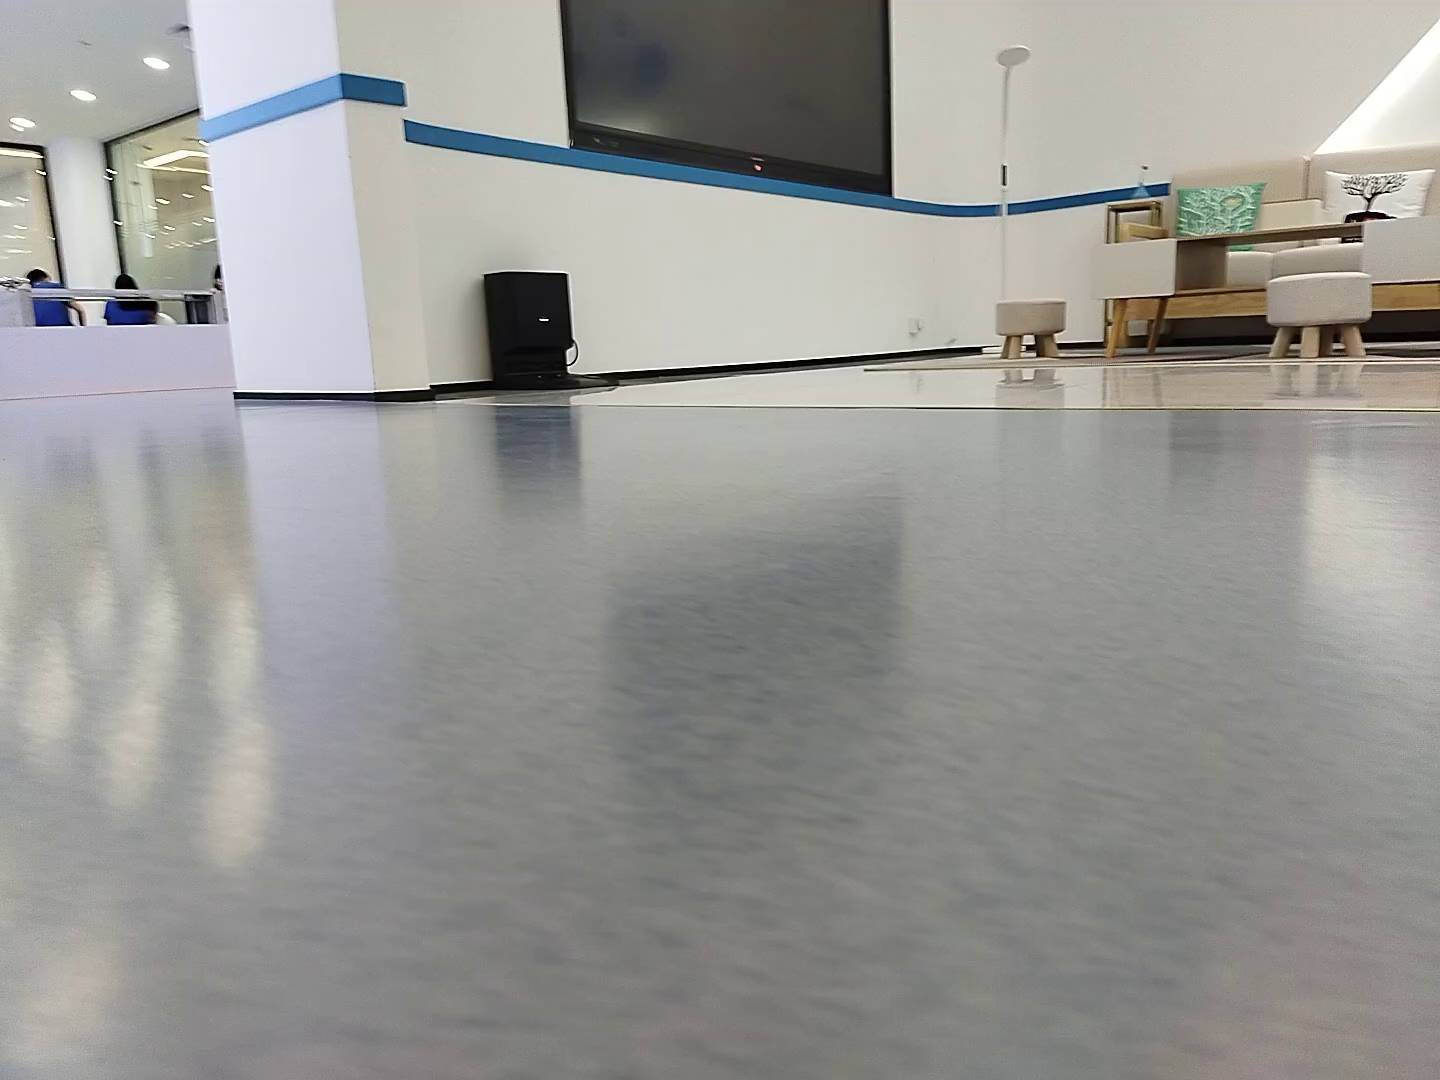dust collecting barrel: (480, 270, 619, 389)
